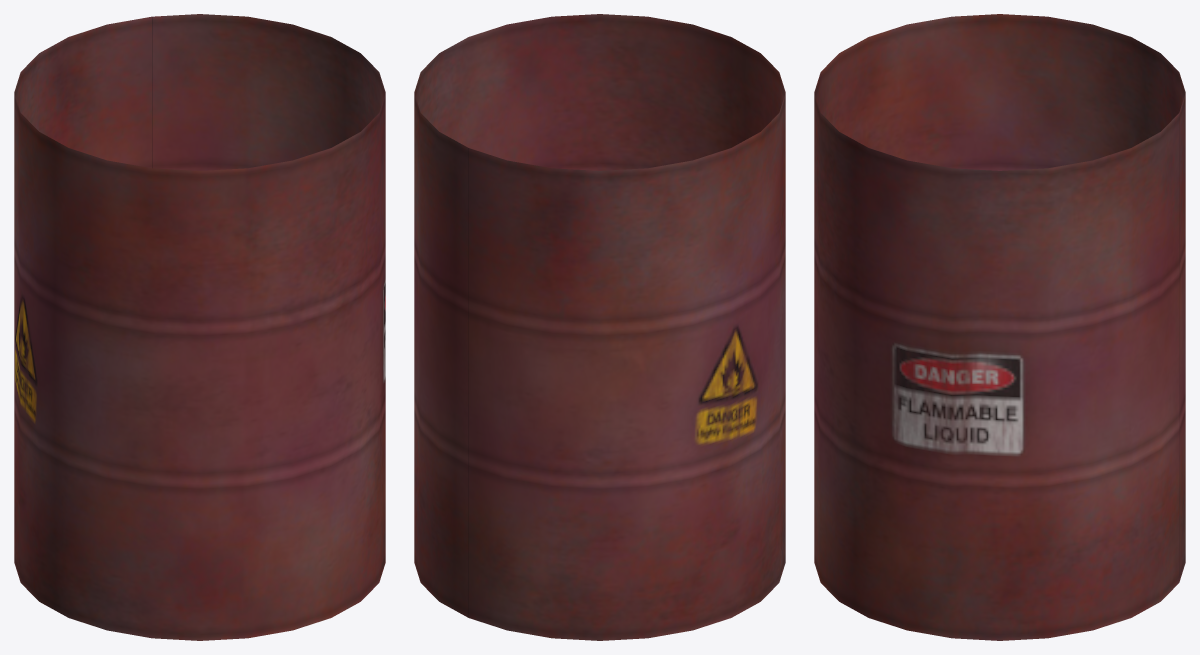
File: drum.fbx
The picture shows the model from 3 angles, left to right: view 1: azimuth 30°, elevation 25°; view 2: azimuth 150°, elevation 25°; view 3: azimuth 270°, elevation 25°; orthographic projection.
Visible parts, largest first — view 1: drum_red; view 2: drum_red; view 3: drum_red.
Boxes of the visible parts, left/top/right/bottom form: drum_red: left=14, top=14, right=385, bottom=640; drum_red: left=414, top=14, right=785, bottom=640; drum_red: left=814, top=14, right=1185, bottom=640.
Size of the model in its own units: 0.55 by 0.768 by 0.55.
